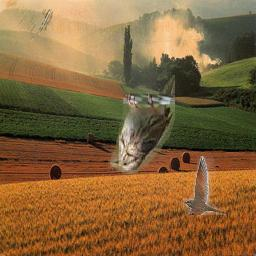Cuckoo: (184, 157, 227, 216)
Sparrow: (109, 76, 176, 175)
